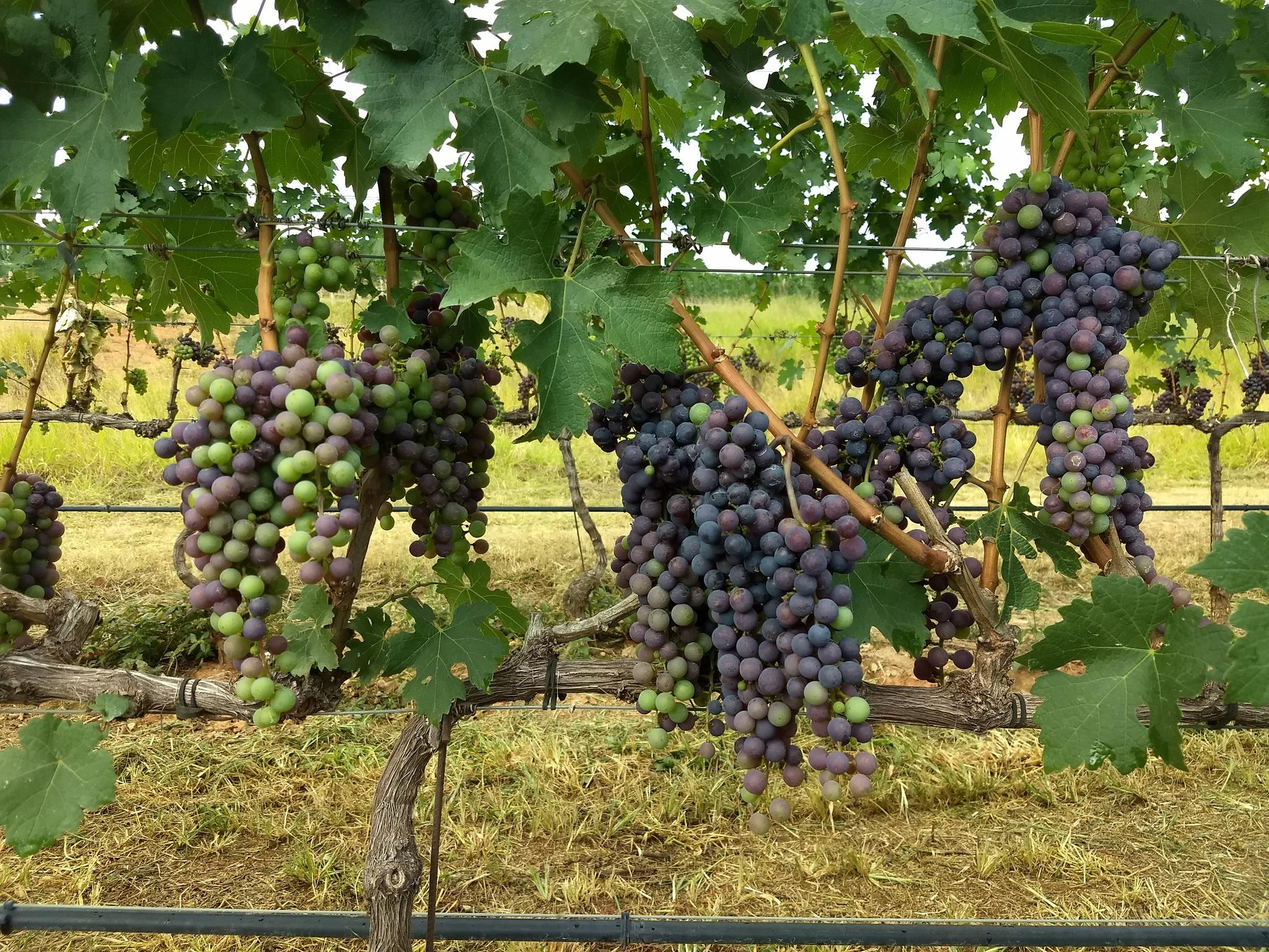Grape Ripe: (819, 183, 1084, 382), (696, 392, 805, 829), (796, 394, 986, 496), (917, 562, 981, 682)
Grape Unripe: (243, 330, 373, 575), (366, 320, 496, 555), (403, 181, 494, 301), (272, 240, 353, 330)
